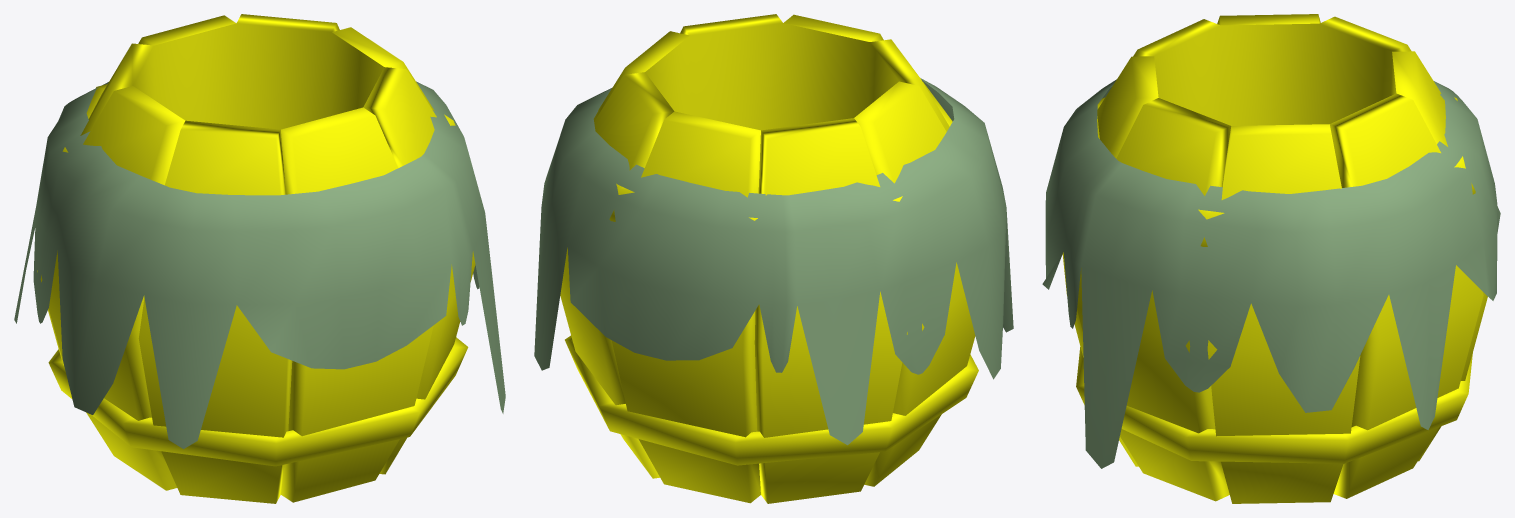
Rendered from Barrel_2.fbx.
3 views of the same model, side by side, from view 1: azimuth 30°, elevation 25°; view 2: azimuth 150°, elevation 25°; view 3: azimuth 270°, elevation 25° (orthographic).
Visible parts, largest first — view 1: Barrel_2; view 2: Barrel_2; view 3: Barrel_2.
Boxes of the visible parts, box(x1,y1,x2,y2) form: Barrel_2: box(14, 14, 505, 503); Barrel_2: box(534, 14, 1013, 503); Barrel_2: box(1042, 14, 1500, 503).
Size of the model in its own units: 77.77 by 66.79 by 75.33.
